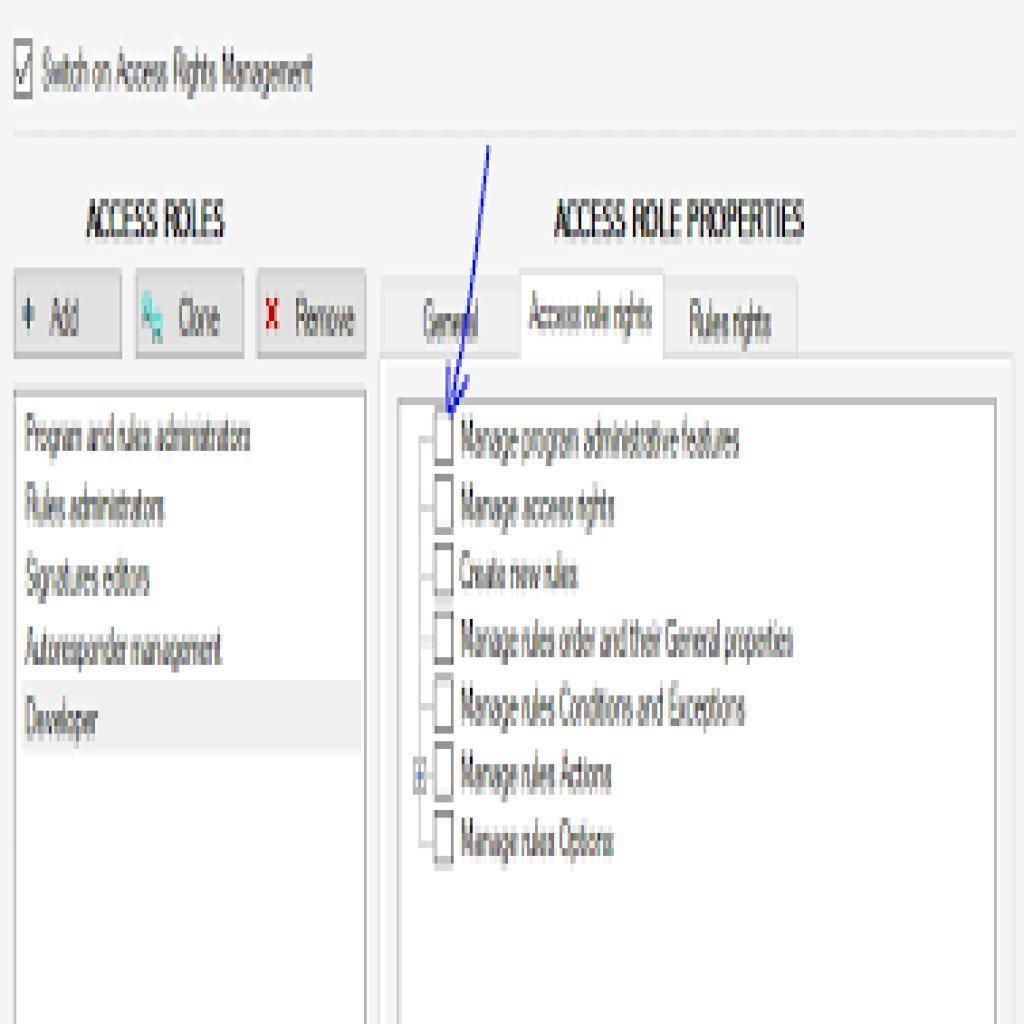button: (520, 270, 665, 360), (384, 277, 519, 360), (662, 277, 797, 357), (14, 265, 123, 360), (138, 268, 247, 360), (257, 267, 367, 357)
checkbox: (13, 40, 36, 101), (433, 542, 456, 601), (435, 474, 456, 534), (435, 742, 456, 801), (434, 675, 455, 734), (434, 411, 456, 465), (435, 612, 456, 667), (435, 812, 455, 864)
label: (460, 616, 797, 668), (461, 678, 749, 738), (459, 415, 742, 467), (460, 481, 621, 537), (459, 815, 618, 869), (459, 748, 616, 802), (456, 546, 589, 602)
